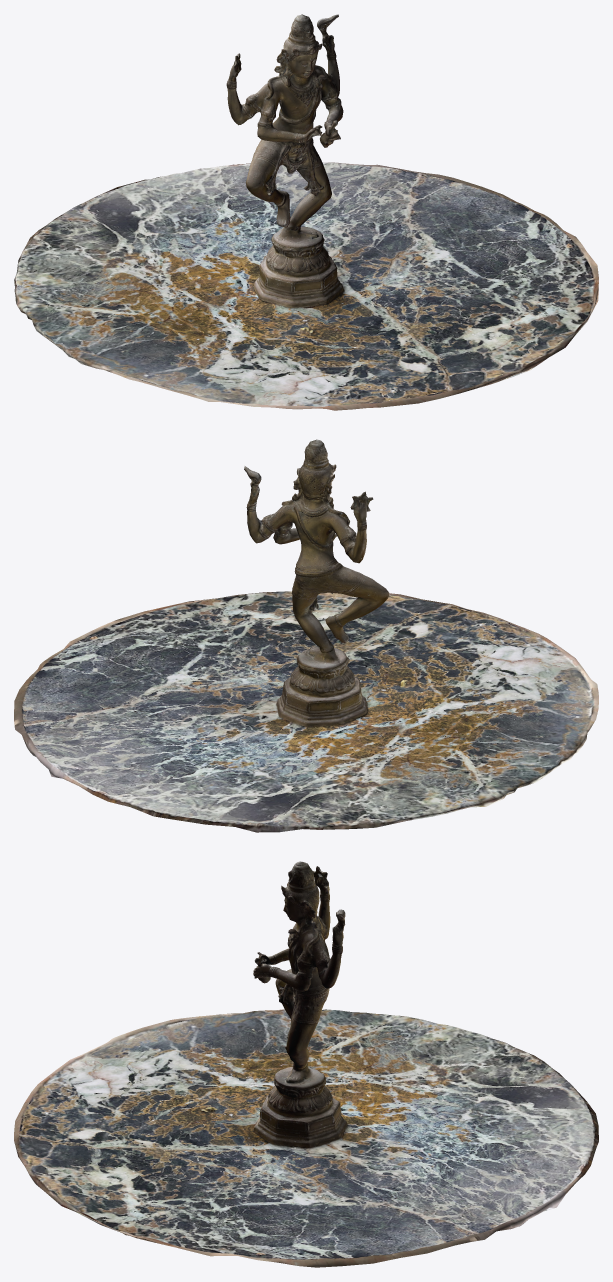
Rendered from god_vishnu.glb.
The picture shows the model from 3 angles, top to bottom: view 1: azimuth 30°, elevation 25°; view 2: azimuth 150°, elevation 25°; view 3: azimuth 270°, elevation 25°; orthographic projection.
Parts seen in each view (by area): view 1: Object_4; view 2: Object_4; view 3: Object_4.
Part boxes in pixels (<box>): Object_4: <box>14,14,598,410</box>; Object_4: <box>14,439,598,832</box>; Object_4: <box>14,861,598,1267</box>.
Size of the model in its own units: 3.59 by 1.89 by 3.6.
1 material, 1 textured.
